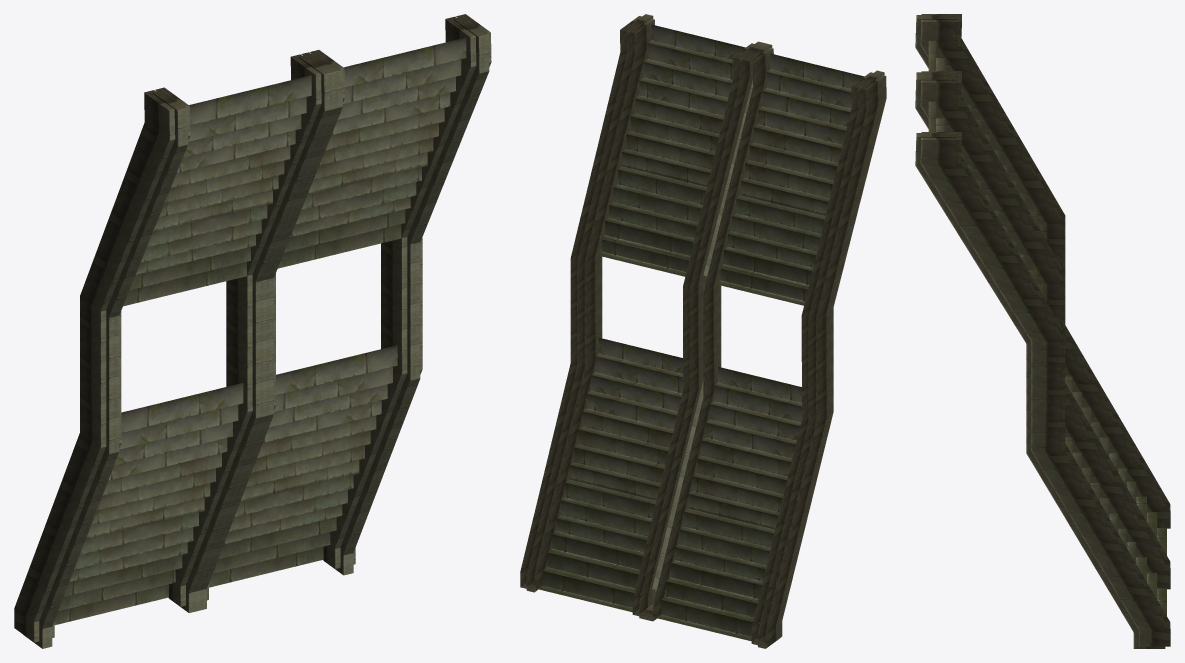
Rendered from huodong_fuben_377_louti.obj.
3 views of the same model, side by side, from view 1: azimuth 30°, elevation 25°; view 2: azimuth 150°, elevation 25°; view 3: azimuth 270°, elevation 25° (orthographic). The views are drawn at different scales.
Visible parts, largest first — view 1: huodong_fuben_377_louti; view 2: huodong_fuben_377_louti; view 3: huodong_fuben_377_louti.
Boxes of the visible parts, x1=… form: huodong_fuben_377_louti: x1=14, y1=14, x2=491, y2=648; huodong_fuben_377_louti: x1=520, y1=14, x2=886, y2=648; huodong_fuben_377_louti: x1=915, y1=14, x2=1170, y2=648.
Bounding box in the file's own units: 991 × 1878 × 848.
Materials: 2 (2 with a texture image).
